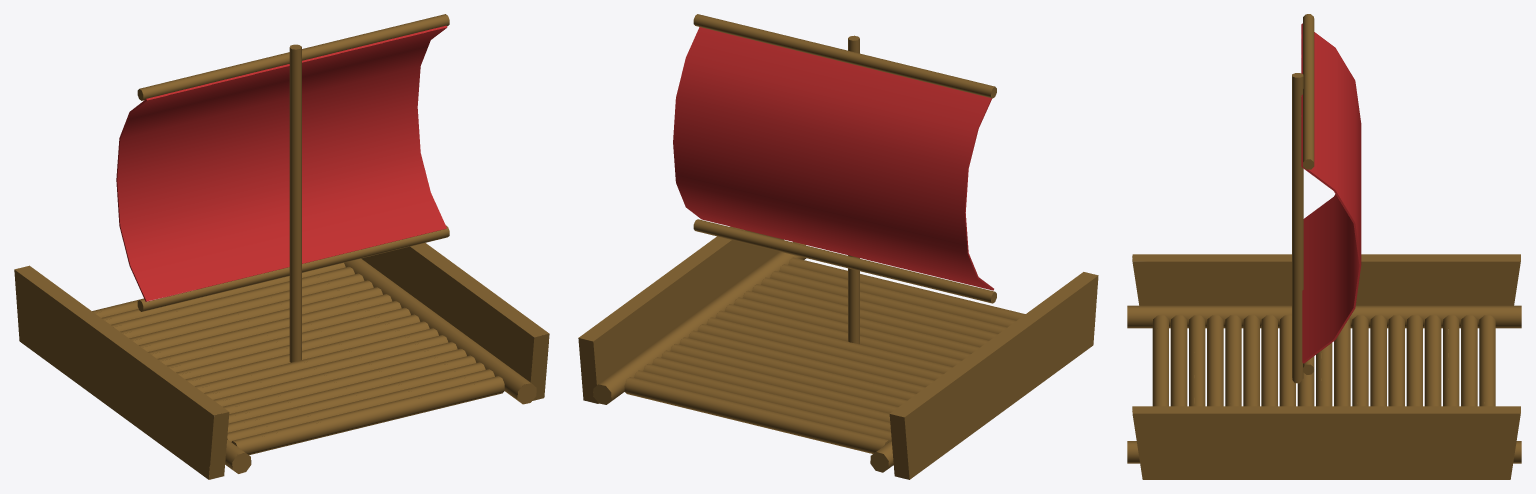
File: Model Textured Builder.fbx
3 views of the same model, side by side, from view 1: azimuth 30°, elevation 25°; view 2: azimuth 150°, elevation 25°; view 3: azimuth 270°, elevation 25° (orthographic). The views are drawn at different scales.
Parts seen in each view (by area): view 1: Plane002, Builder_Wood, Builder_Wood 005, Builder_Wood 4, Buuilder_Woodn3, Builder_Wood 2, Builder_Wood 003; view 2: Plane002, Builder_Wood, Builder_Wood 005, Builder_Wood 4, Builder_Wood 2, Builder_Wood 003, Buuilder_Woodn3; view 3: Builder_Wood 4, Builder_Wood, Builder_Wood 005, Plane002, Buuilder_Woodn3, Builder_Wood 2.
Part boxes in pixels (x1,y1,x2,y2): Plane002: [116, 25, 447, 301]; Builder_Wood: [92, 263, 504, 455]; Builder_Wood 005: [14, 265, 251, 479]; Builder_Wood 4: [344, 243, 549, 404]; Buuilder_Woodn3: [289, 44, 301, 362]; Builder_Wood 2: [137, 14, 449, 100]; Builder_Wood 003: [137, 225, 449, 311]; Plane002: [673, 27, 993, 290]; Builder_Wood: [624, 257, 1025, 453]; Builder_Wood 005: [870, 272, 1098, 479]; Builder_Wood 4: [578, 226, 806, 404]; Builder_Wood 2: [693, 14, 996, 98]; Builder_Wood 003: [693, 219, 996, 303]; Buuilder_Woodn3: [848, 35, 859, 344]; Builder_Wood 4: [1127, 406, 1521, 479]; Builder_Wood: [1152, 315, 1495, 406]; Builder_Wood 005: [1127, 254, 1521, 328]; Plane002: [1301, 23, 1361, 363]; Buuilder_Woodn3: [1292, 73, 1303, 383]; Builder_Wood 2: [1303, 14, 1314, 169].
Size of the model in its own units: 74.47 by 70.77 by 77.96.
2 materials, 2 textured.
